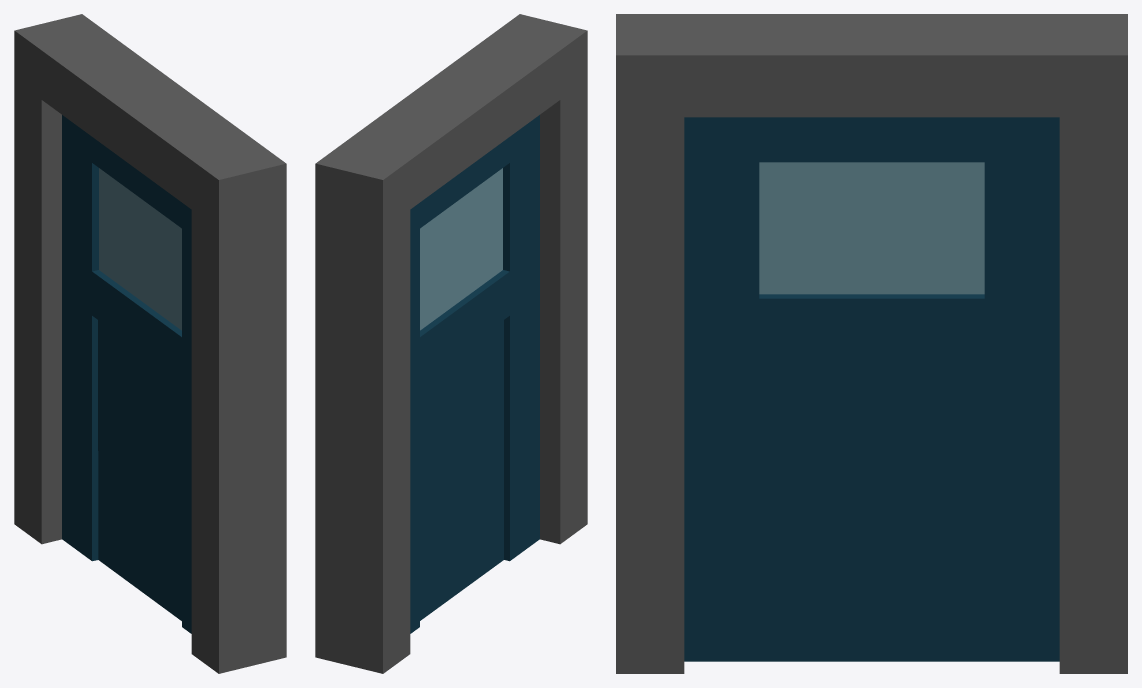
File: Door 1.fbx
3 views of the same model, side by side, from view 1: azimuth 30°, elevation 25°; view 2: azimuth 150°, elevation 25°; view 3: azimuth 270°, elevation 25° (orthographic). The views are drawn at different scales.
Parts seen in each view (by area): view 1: Frame, Door; view 2: Frame, Door; view 3: Door, Frame.
Part boxes in pixels (x1,y1,x2,y2): Frame: (14,14,286,673); Door: (62,115,191,633); Frame: (315,14,587,673); Door: (410,115,539,633); Door: (684,117,1059,661); Frame: (616,14,1127,673).
Bounding box in the file's own units: 28.68 × 200 × 150.
